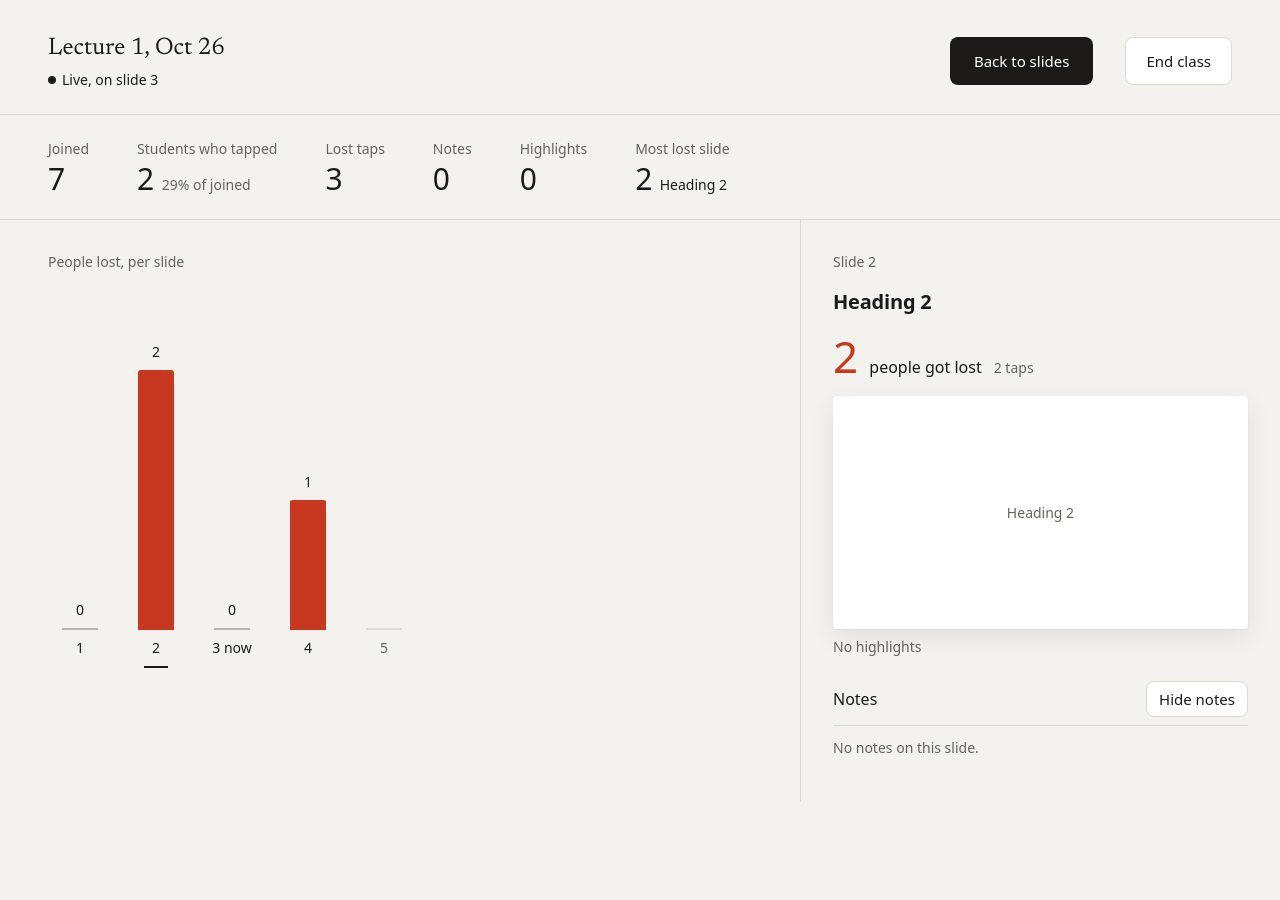
it: LectureData live › shows the slide most people are lost on in the panel, and a clicked bar's slide after that
Expected: the text "Slide 2" is shown, [833, 252, 876, 271]
Expected: the heading "Heading 2" is shown, [833, 288, 932, 315]
Click the button "1 4". click: x=308, y=478
box: [270, 288, 346, 668]
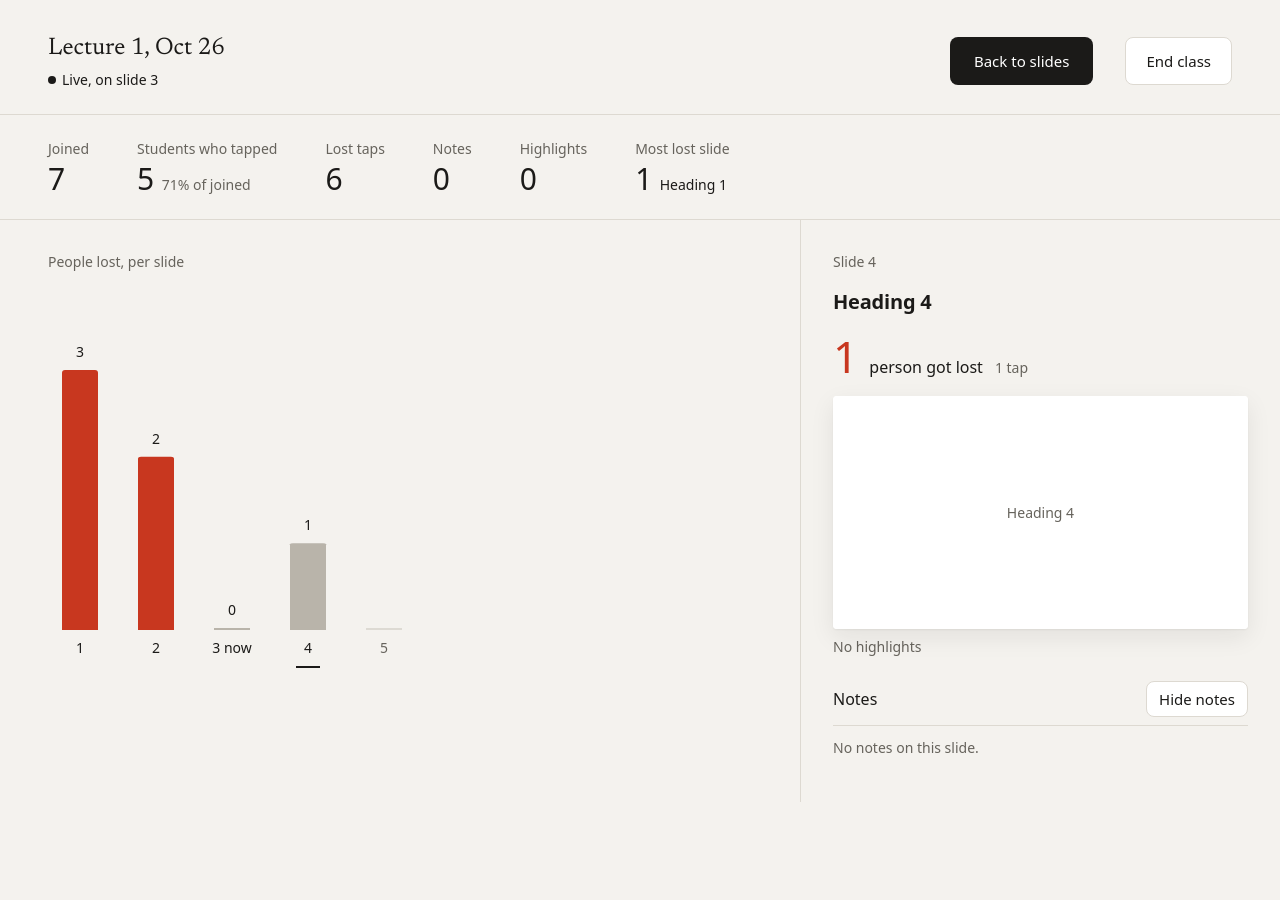
Expected: the text "person got lost" is shown, [869, 355, 983, 379]
Expected: the text "1 tap" is shown, [995, 358, 1028, 378]
Expected: the text "Slide 4" is shown, [833, 252, 876, 271]
